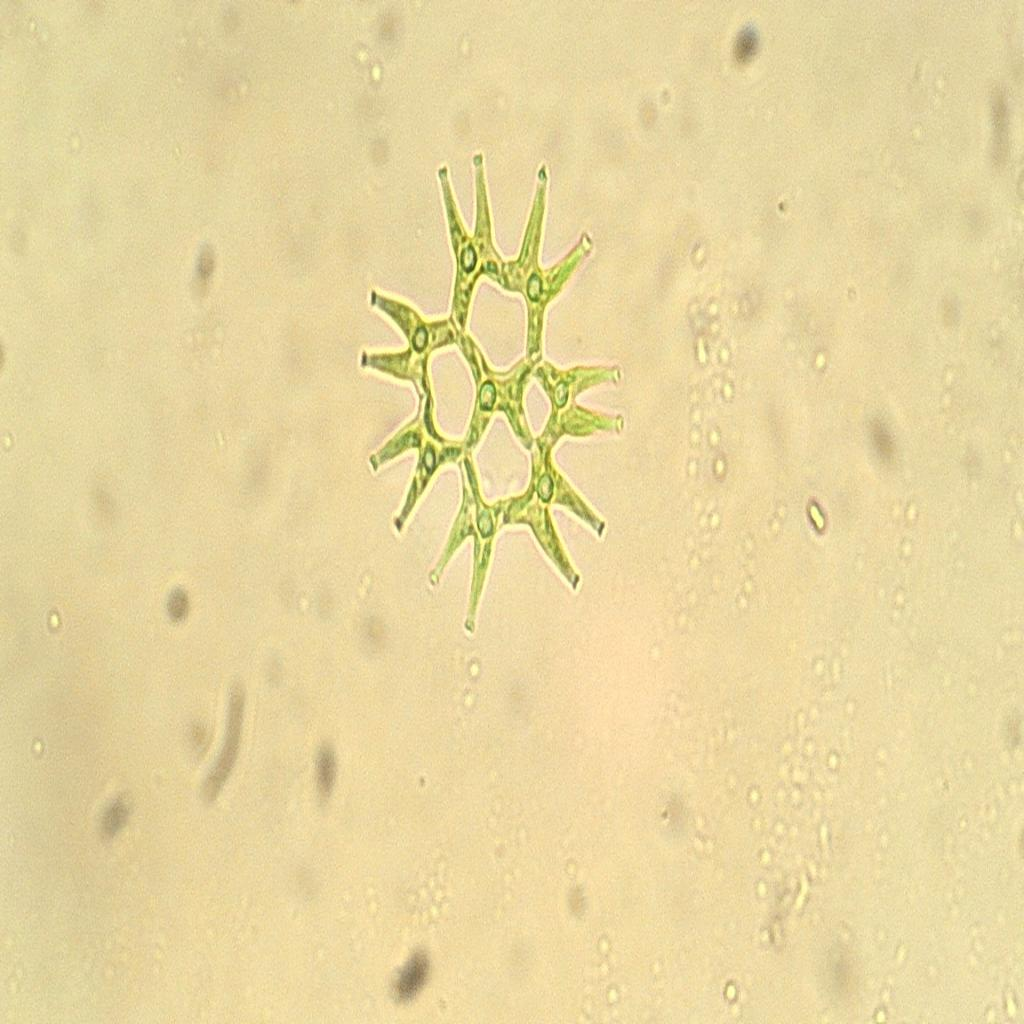Pediastrum_CTH: (353, 138, 632, 642)
